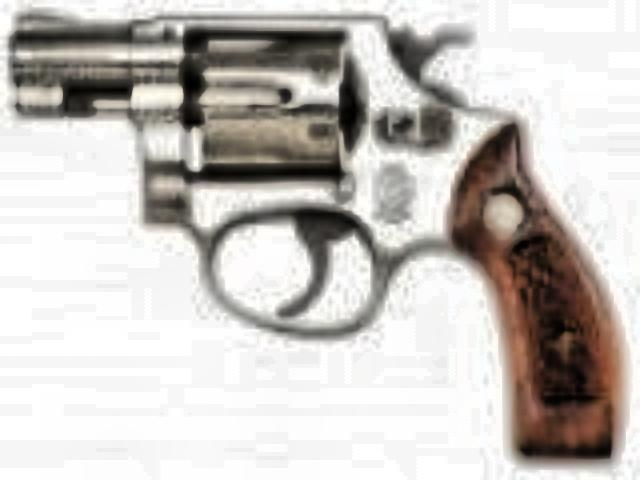pistol: (12, 0, 620, 476)
